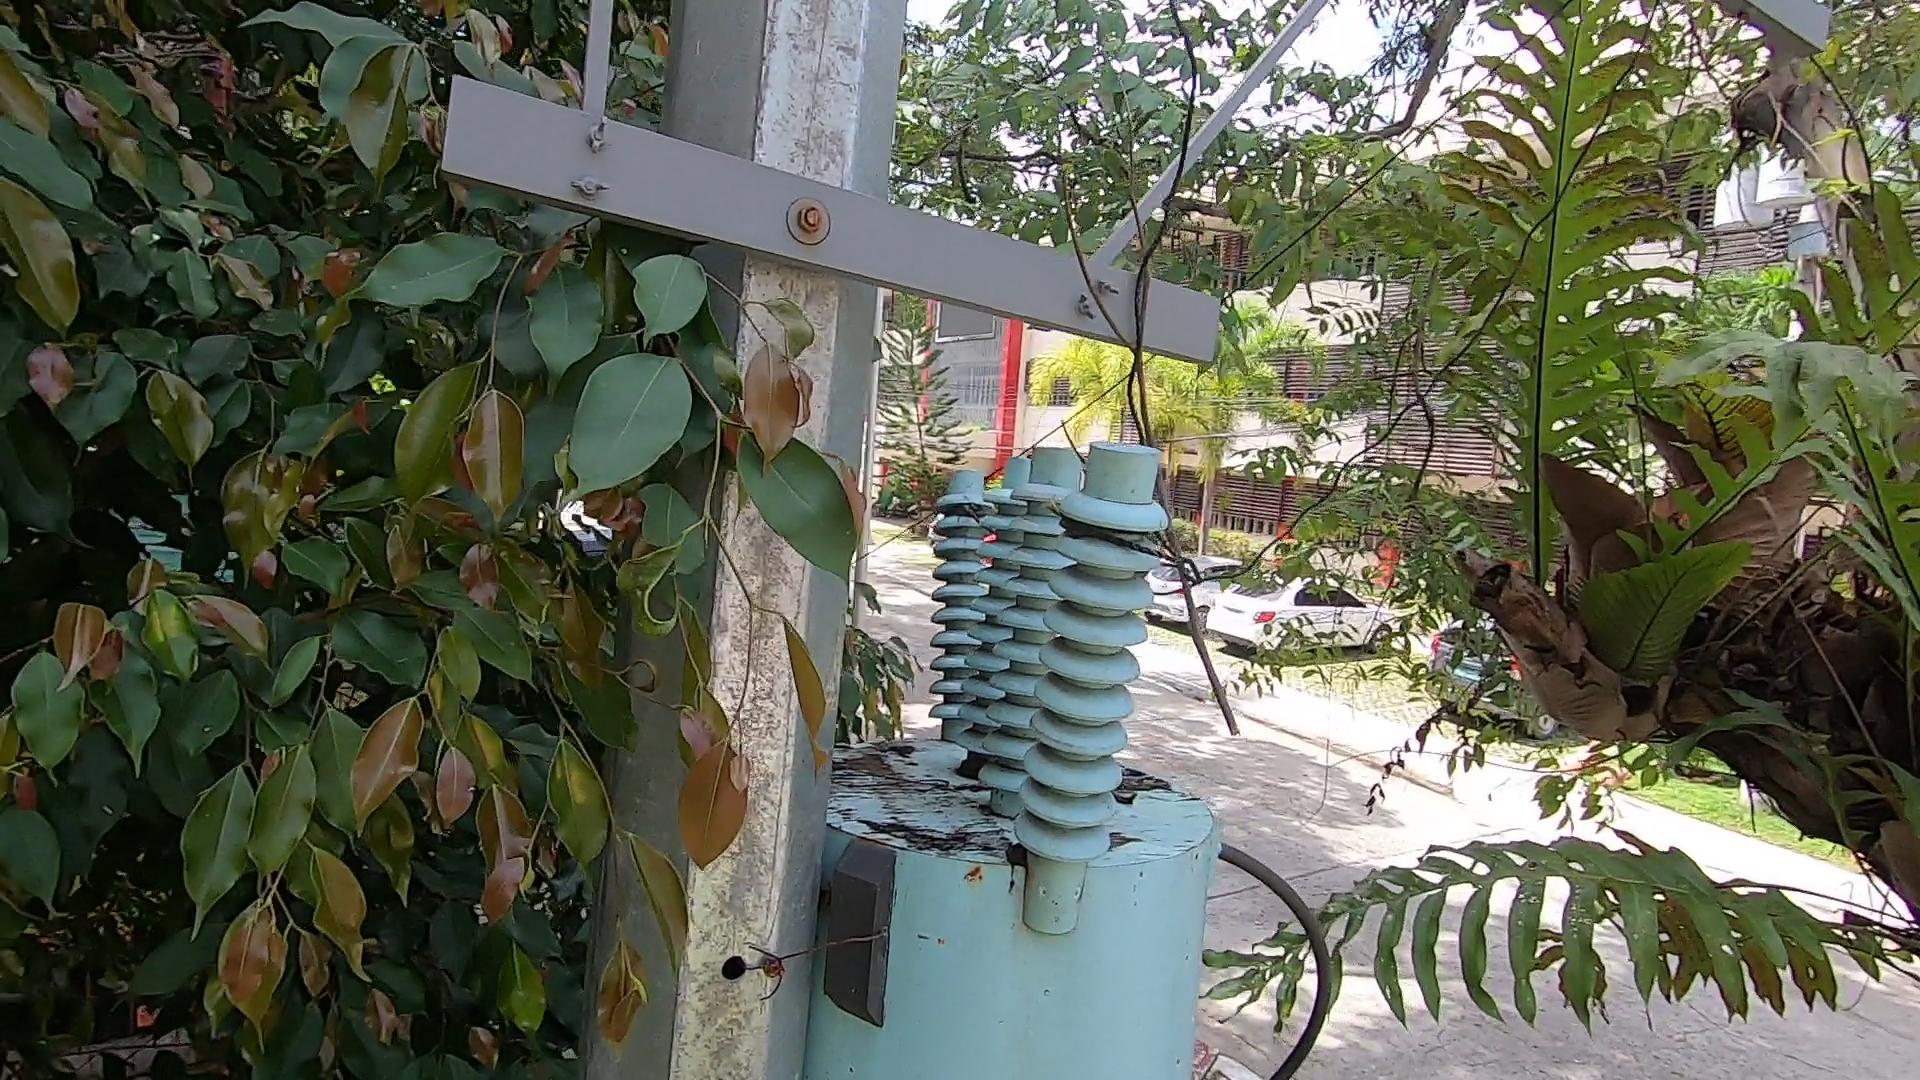leaf: (1117, 775, 1142, 814)
tree branch: (1042, 7, 1263, 741)
